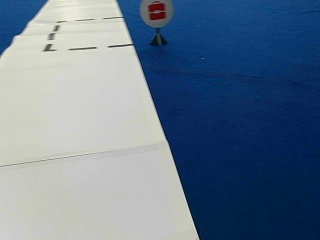company: (139, 0, 174, 26)
